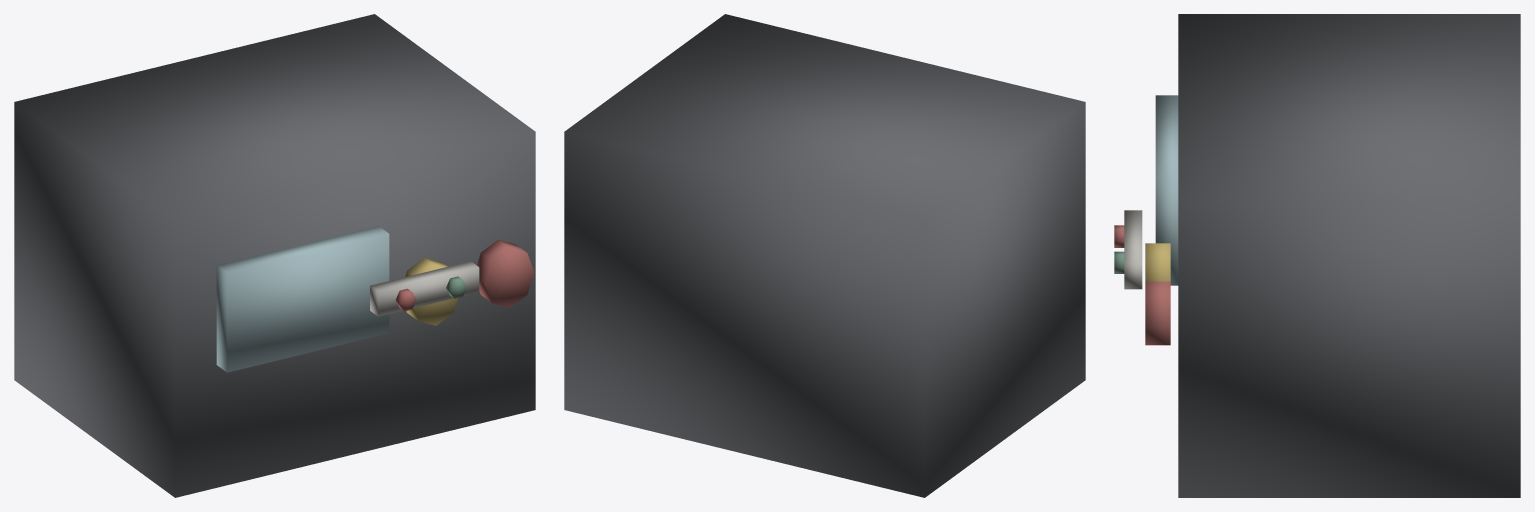
Rendered from component_tester__tall.glb.
The picture shows the model from 3 angles, left to right: view 1: azimuth 30°, elevation 25°; view 2: azimuth 150°, elevation 25°; view 3: azimuth 270°, elevation 25°; orthographic projection. The views are drawn at different scales.
Visible parts, largest first — view 1: world; view 2: world; view 3: world.
Boxes of the visible parts, x1,y1,x2,y2 form: world: [14, 14, 535, 497]; world: [564, 14, 1085, 497]; world: [1114, 14, 1520, 497].
Size of the model in its own units: 0.44 by 0.3248 by 0.4035.
